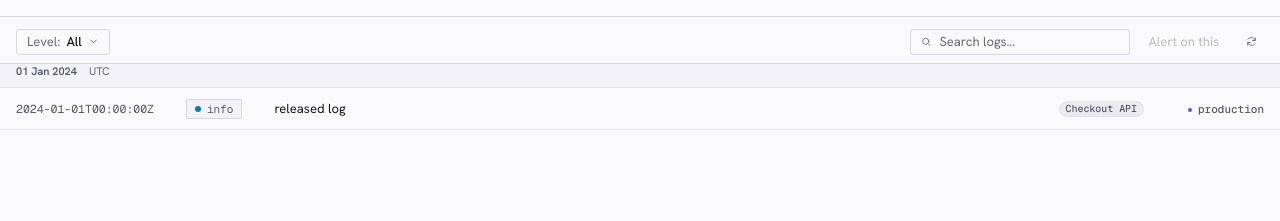
Scenario: LogsView › expanded row details › shows release tag when log has release
Click the row that starts with "2024-01-01T00:00:00Z".
click(640, 108)  # box [0, 88, 1279, 130]
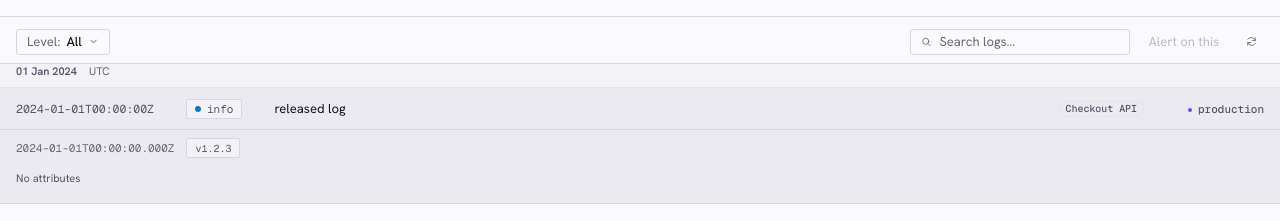
expect the text "v1.2.3" is shown: met, box [186, 138, 240, 158]
